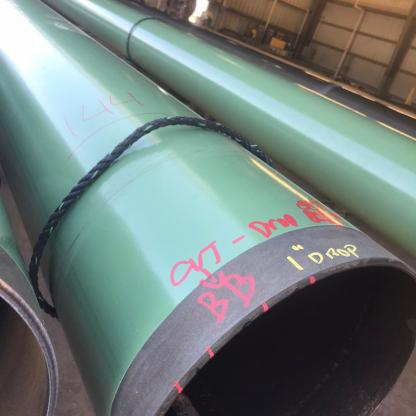Bevel: (320, 255, 381, 275), (285, 283, 308, 300), (238, 316, 254, 337), (186, 366, 204, 380)
